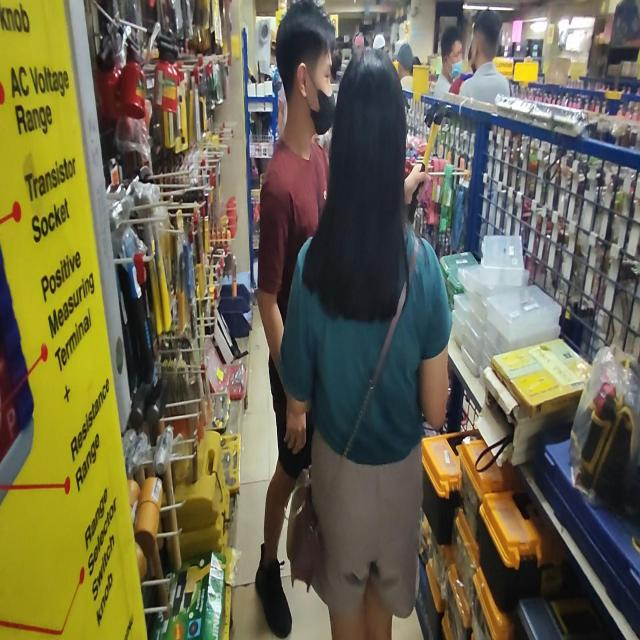hammer: (408, 103, 452, 225)
